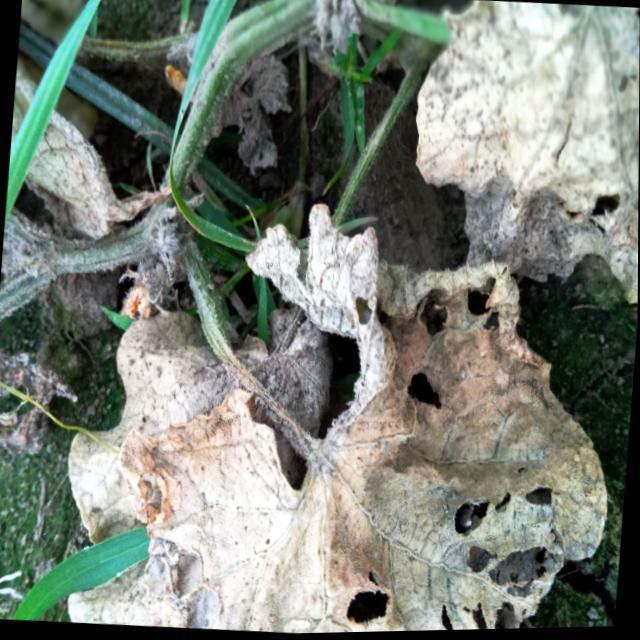Bacterial-Wilt: (67, 196, 609, 635), (413, 2, 640, 309)
